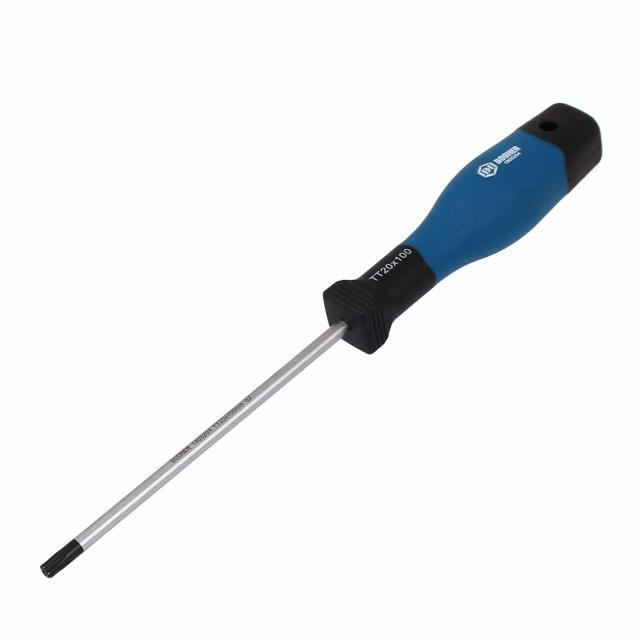screwdriver: (32, 94, 606, 582)
